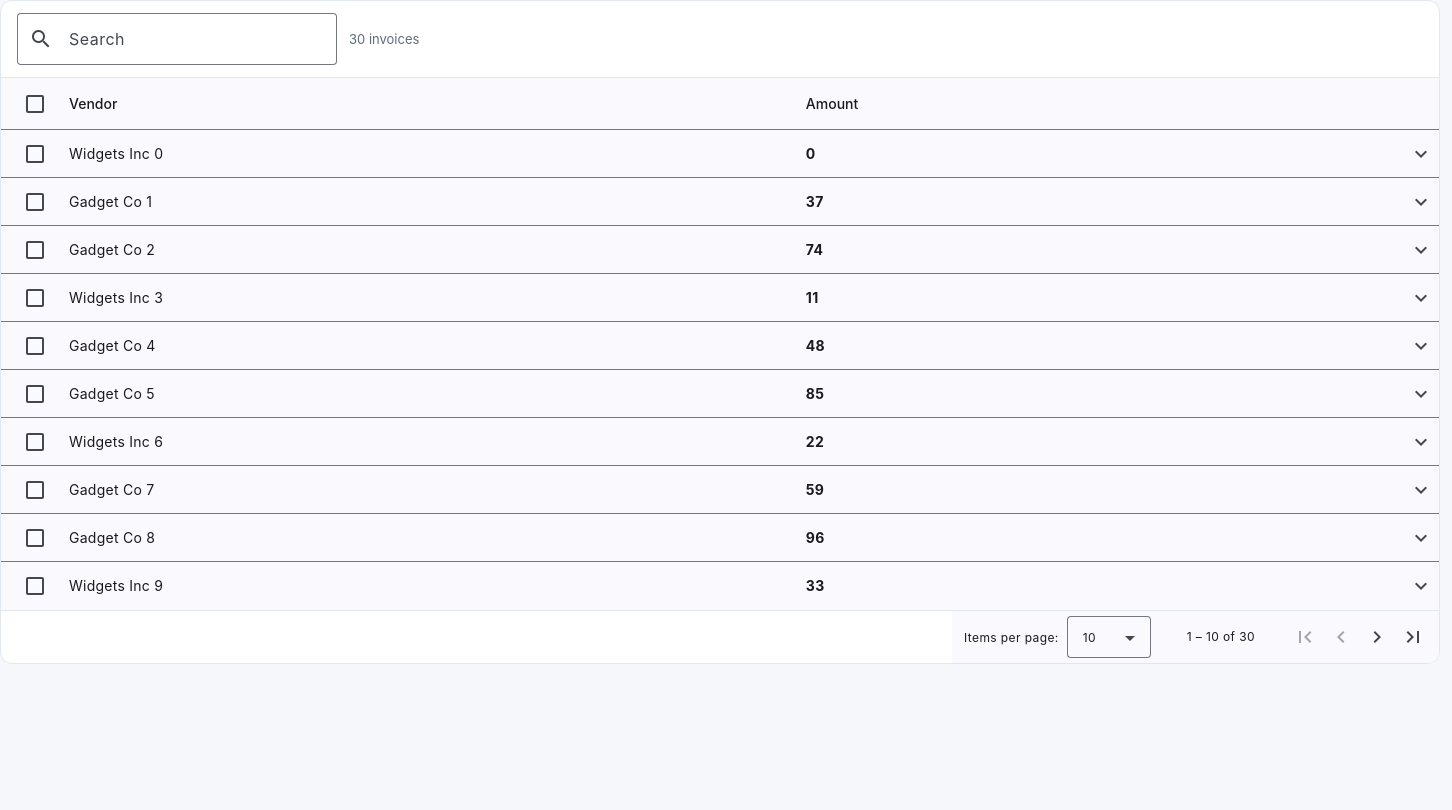
Test case: InvoiceTableComponent › filters by search text and recounts pagination
Expected: the text "1 – 10 of 30" is shown, [1187, 629, 1255, 645]
Type "widgets inc" into the search field with test id "table-search" at [195, 39], box [69, 27, 321, 51]
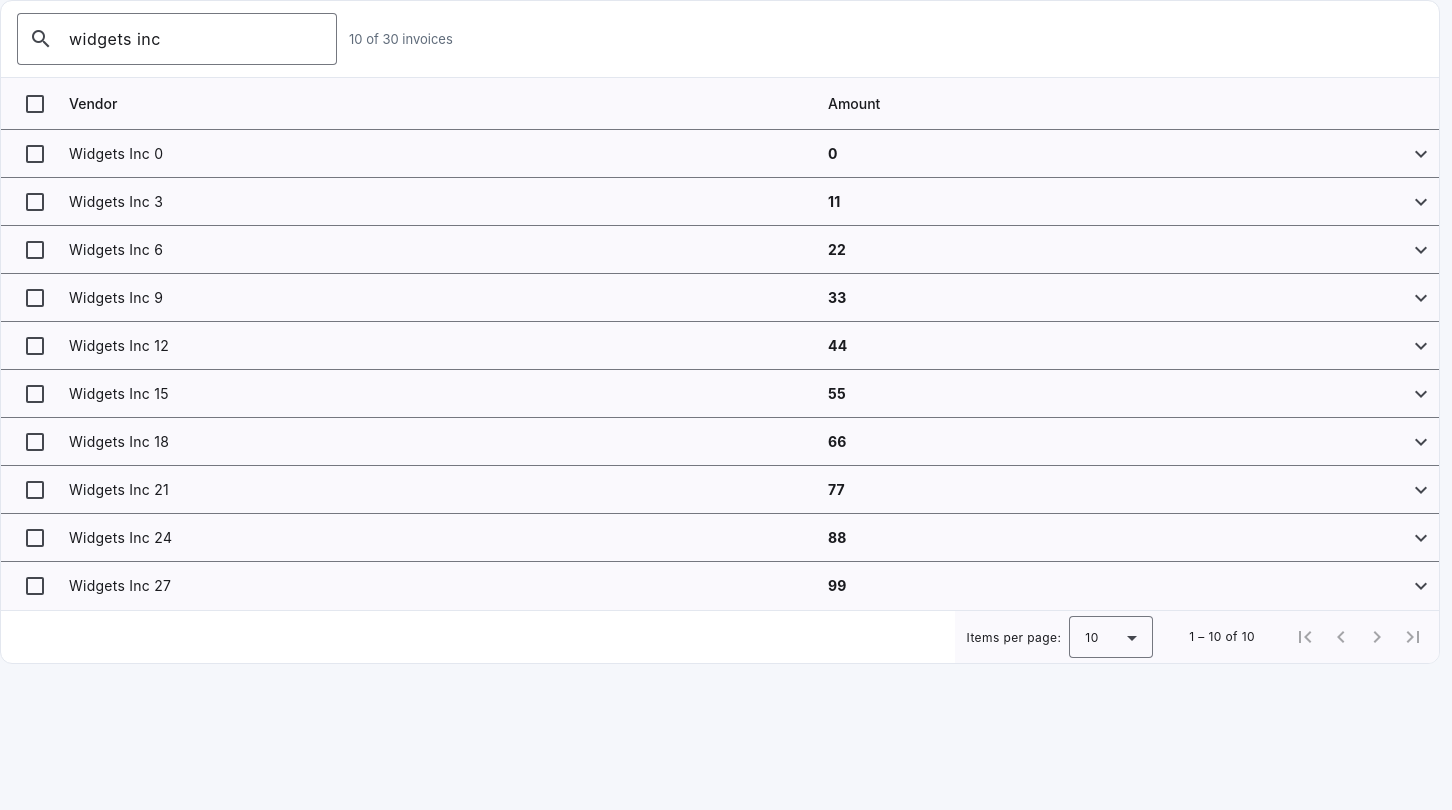
Now the text with test id "table-count" reads "10 of 30 invoices", box [349, 31, 453, 47]
Now the text "1 – 10 of 10" is shown, box [1189, 629, 1255, 645]
Replace the text in the search field with test id "table-search" with "nothing-matches" at [195, 39], box [69, 27, 321, 51]
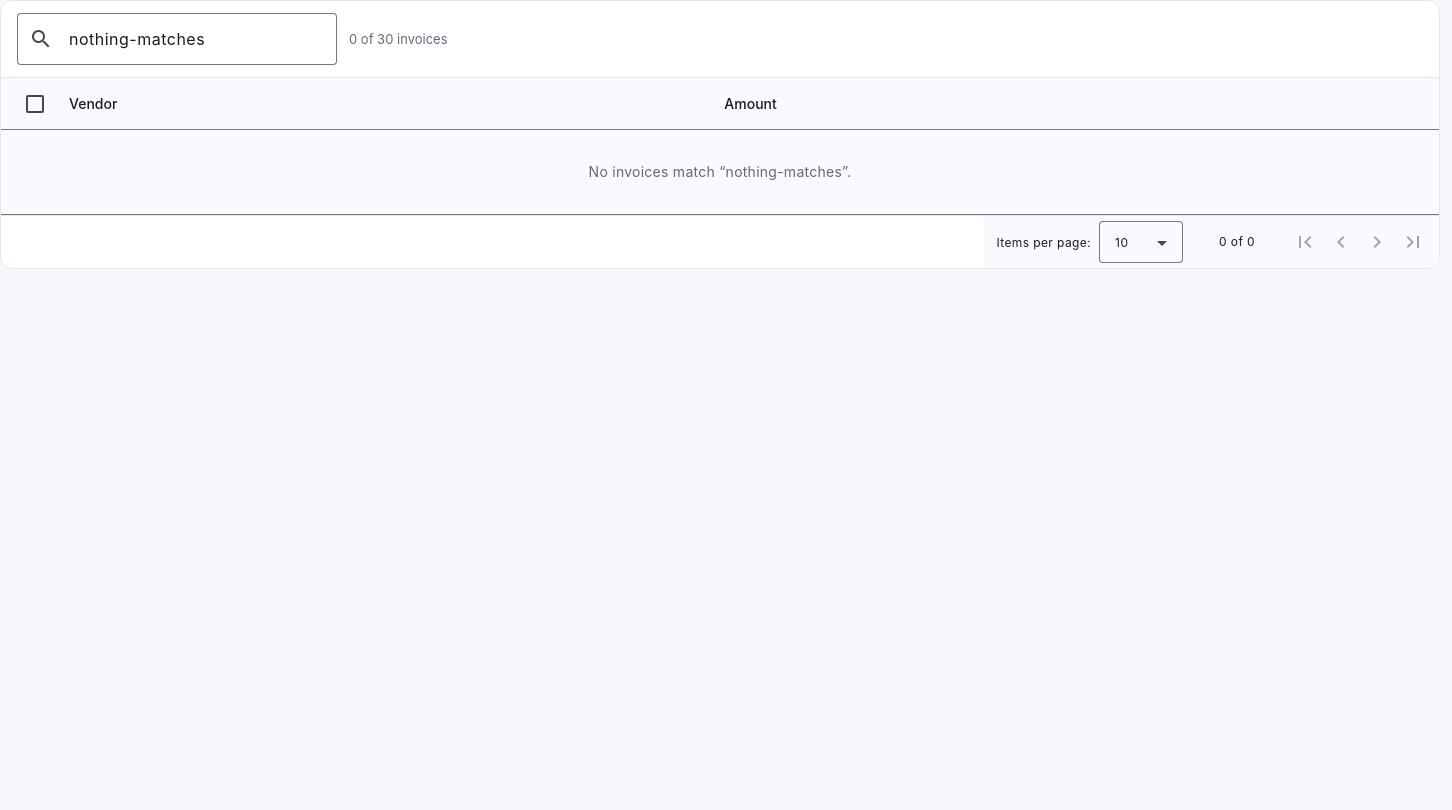
Now the text "No invoices match" is shown, box [589, 163, 851, 180]
